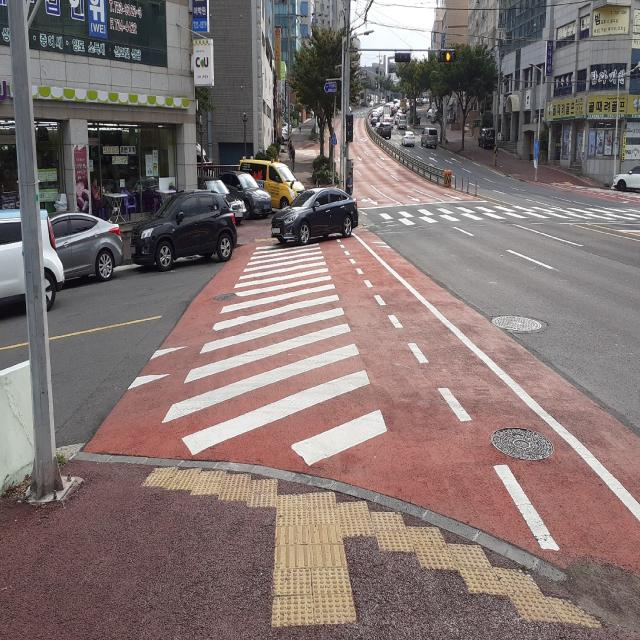횡단보도: (161, 240, 390, 468), (370, 204, 640, 232)
